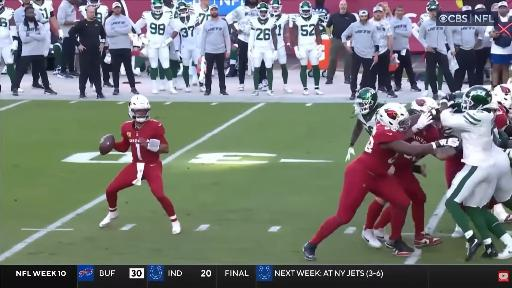Helmet: (376, 103, 410, 131), (461, 86, 492, 111), (129, 95, 151, 123), (354, 88, 377, 114), (493, 85, 511, 110), (411, 97, 438, 112), (450, 92, 463, 113), (176, 1, 189, 17), (299, 1, 312, 17), (257, 3, 269, 18), (270, 0, 282, 14), (426, 0, 440, 12), (151, 0, 163, 14), (87, 0, 101, 8), (507, 77, 512, 85), (0, 0, 4, 9)
Jersey: (441, 111, 499, 166), (359, 123, 405, 175), (121, 120, 167, 163), (137, 11, 172, 42), (171, 15, 199, 47), (356, 103, 383, 134), (250, 18, 275, 51), (295, 15, 319, 46), (406, 125, 440, 144), (273, 14, 289, 48), (0, 7, 14, 45), (31, 0, 53, 24), (193, 4, 211, 25), (495, 105, 509, 130), (96, 5, 108, 25), (163, 6, 175, 17), (419, 13, 429, 22)
Player: (303, 103, 458, 260), (440, 86, 511, 260), (100, 95, 180, 234), (392, 155, 441, 247), (136, 0, 177, 94), (292, 1, 323, 95), (346, 88, 383, 161), (248, 3, 277, 95), (171, 2, 200, 92), (270, 0, 292, 93), (31, 0, 63, 58), (0, 0, 17, 83), (32, 0, 63, 41), (493, 85, 511, 137), (191, 0, 211, 39), (79, 0, 108, 25), (422, 70, 445, 97), (493, 92, 507, 128), (193, 0, 211, 25), (169, 38, 180, 78), (158, 64, 167, 91)
